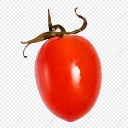tomato: (35, 33, 103, 122)
